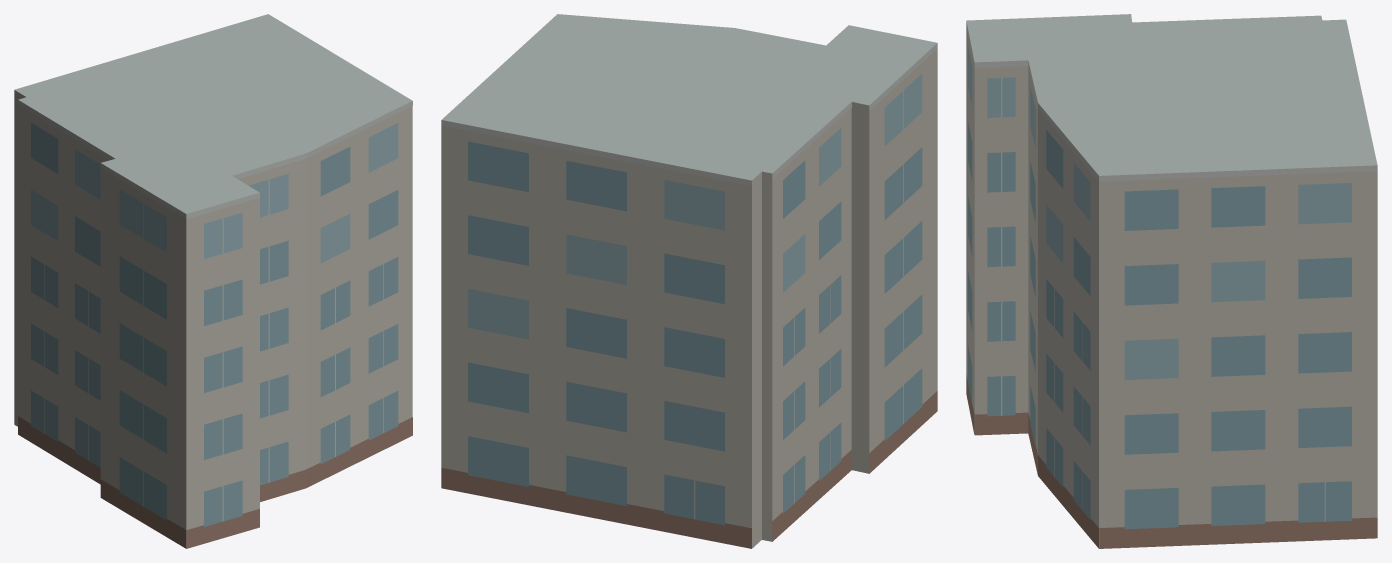
The model's file is survey-upis-32717593.glb.
3 views of the same model, side by side, from view 1: azimuth 30°, elevation 25°; view 2: azimuth 150°, elevation 25°; view 3: azimuth 270°, elevation 25° (orthographic). The views are drawn at different scales.
Parts seen in each view (by area): view 1: survey-upis-32717593.tmp; view 2: survey-upis-32717593.tmp; view 3: survey-upis-32717593.tmp.
Boxes of the visible parts, box(x1,y1,x2,y2) form: survey-upis-32717593.tmp: box(14, 14, 412, 548); survey-upis-32717593.tmp: box(441, 14, 937, 548); survey-upis-32717593.tmp: box(966, 14, 1377, 548).
Size of the model in its own units: 14.75 by 15.83 by 15.83.
